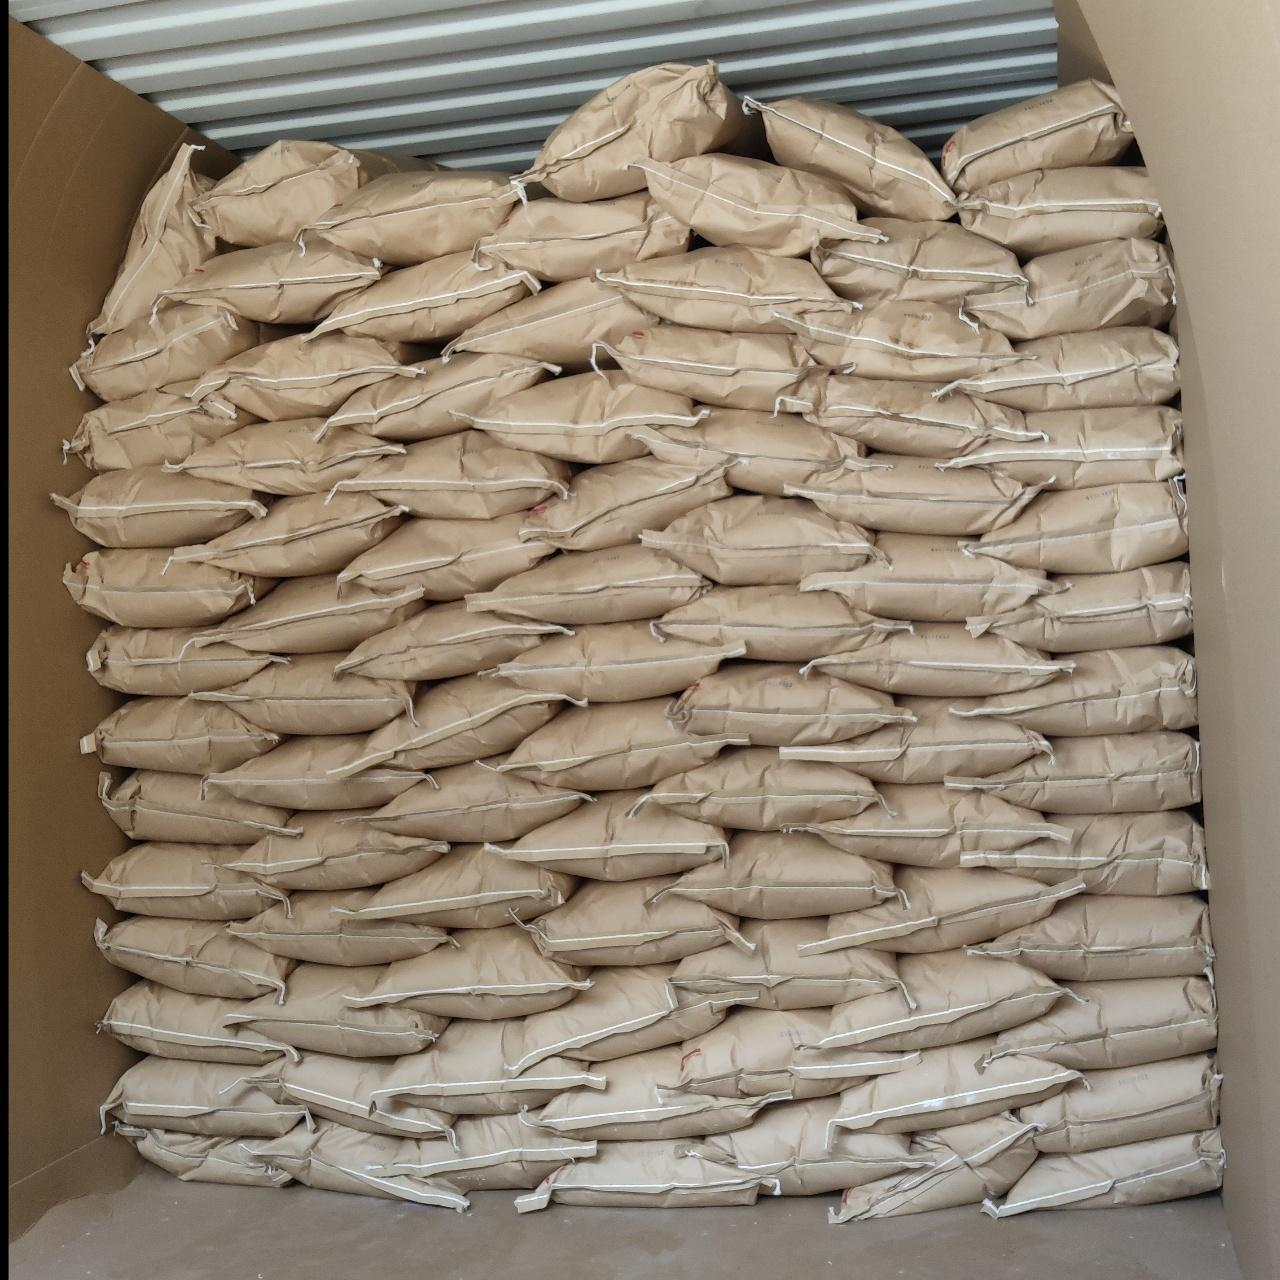sack: (522, 61, 747, 200), (90, 147, 229, 338), (804, 949, 1062, 1048), (748, 96, 954, 216), (332, 674, 572, 776), (646, 154, 874, 254), (802, 866, 1078, 949), (779, 697, 1048, 782), (343, 926, 590, 1017), (515, 966, 731, 1068), (778, 372, 1040, 456), (836, 1039, 1076, 1130), (504, 697, 740, 790), (804, 535, 1058, 620), (830, 1116, 1034, 1223), (304, 164, 524, 263), (538, 1048, 778, 1138), (942, 80, 1130, 195), (790, 784, 1058, 864), (598, 248, 847, 334), (660, 1010, 910, 1096), (697, 1098, 915, 1196), (468, 372, 700, 462), (958, 646, 1196, 734), (240, 1118, 468, 1210), (966, 240, 1175, 340), (482, 622, 740, 702), (376, 1020, 604, 1110), (787, 454, 1040, 535), (312, 252, 538, 342), (332, 433, 570, 518), (988, 1128, 1223, 1214), (322, 352, 556, 438), (222, 964, 445, 1054), (948, 731, 1198, 812), (660, 832, 896, 918), (644, 496, 876, 583), (992, 978, 1214, 1068), (968, 810, 1206, 894), (968, 896, 1212, 978), (966, 481, 1189, 570), (968, 561, 1190, 651), (192, 333, 420, 420), (502, 790, 726, 878), (940, 406, 1182, 486), (594, 322, 822, 408), (520, 456, 730, 549), (676, 920, 903, 1006), (937, 328, 1178, 408), (170, 492, 404, 574), (156, 240, 390, 322), (640, 408, 864, 493), (444, 280, 654, 370), (468, 544, 708, 622), (648, 748, 878, 830), (1024, 1054, 1220, 1150), (218, 1054, 454, 1133), (802, 624, 1068, 694), (72, 304, 268, 399), (526, 878, 744, 964), (195, 144, 377, 246), (656, 586, 906, 660), (476, 192, 688, 278), (370, 756, 588, 838), (676, 663, 904, 742), (164, 418, 402, 493), (352, 846, 576, 926), (196, 652, 418, 731), (336, 516, 552, 598), (960, 166, 1160, 254), (813, 218, 1020, 302), (340, 602, 568, 678), (799, 300, 1014, 380), (202, 576, 422, 652), (52, 467, 268, 544), (376, 1114, 595, 1190), (229, 890, 452, 964), (518, 1142, 760, 1210), (224, 812, 445, 886), (204, 736, 436, 806), (96, 915, 290, 998), (64, 388, 256, 470), (98, 982, 294, 1062), (62, 549, 272, 622), (104, 1058, 308, 1133), (82, 844, 286, 918), (82, 697, 278, 772), (100, 770, 288, 842), (88, 626, 284, 694), (120, 1126, 288, 1186)
